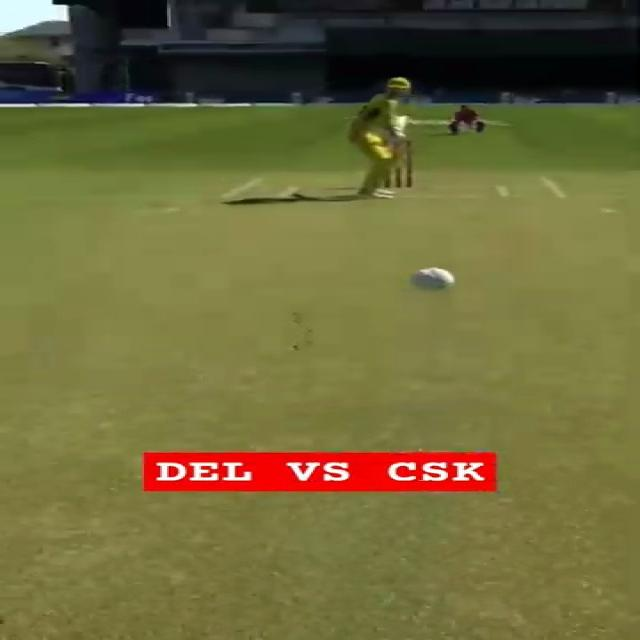ball: (405, 261, 462, 303)
